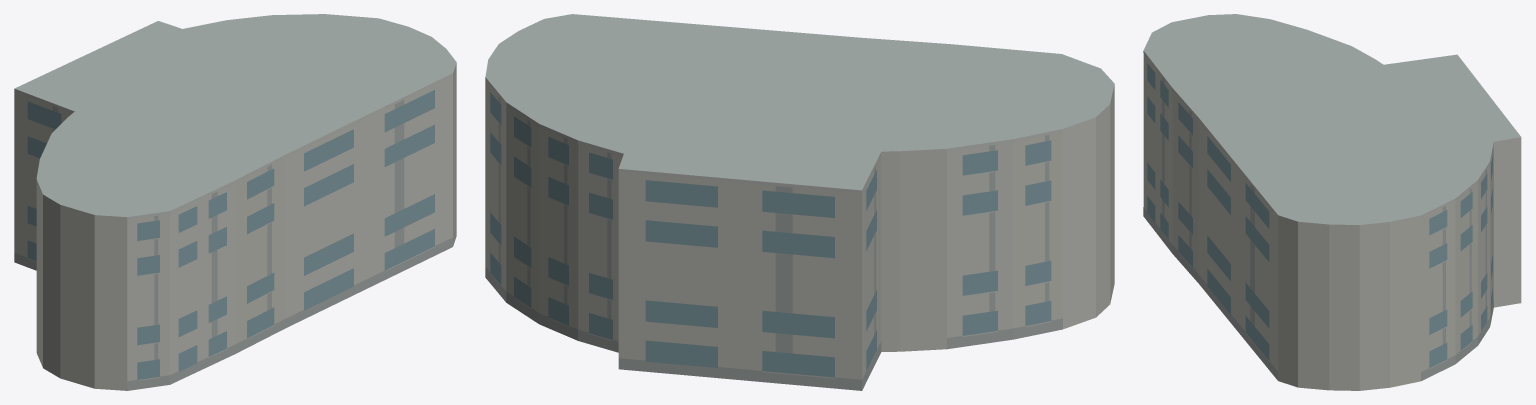
Rendered from residential-42a30664-182f-4b74-9f3e-66e65cb01c9e.glb.
3 renders of one model, left to right at view 1: azimuth 30°, elevation 25°; view 2: azimuth 150°, elevation 25°; view 3: azimuth 270°, elevation 25°, orthographic. The views are drawn at different scales.
Visible parts, largest first — view 1: residential-42a30664-182f-4b74-9f3e-66e65cb01c9e.tmp; view 2: residential-42a30664-182f-4b74-9f3e-66e65cb01c9e.tmp; view 3: residential-42a30664-182f-4b74-9f3e-66e65cb01c9e.tmp.
Boxes of the visible parts, x1=… form: residential-42a30664-182f-4b74-9f3e-66e65cb01c9e.tmp: x1=14, y1=14, x2=456, y2=390; residential-42a30664-182f-4b74-9f3e-66e65cb01c9e.tmp: x1=485, y1=14, x2=1114, y2=390; residential-42a30664-182f-4b74-9f3e-66e65cb01c9e.tmp: x1=1143, y1=14, x2=1521, y2=390.
Size of the model in its own units: 41.62 by 15.25 by 31.5.
